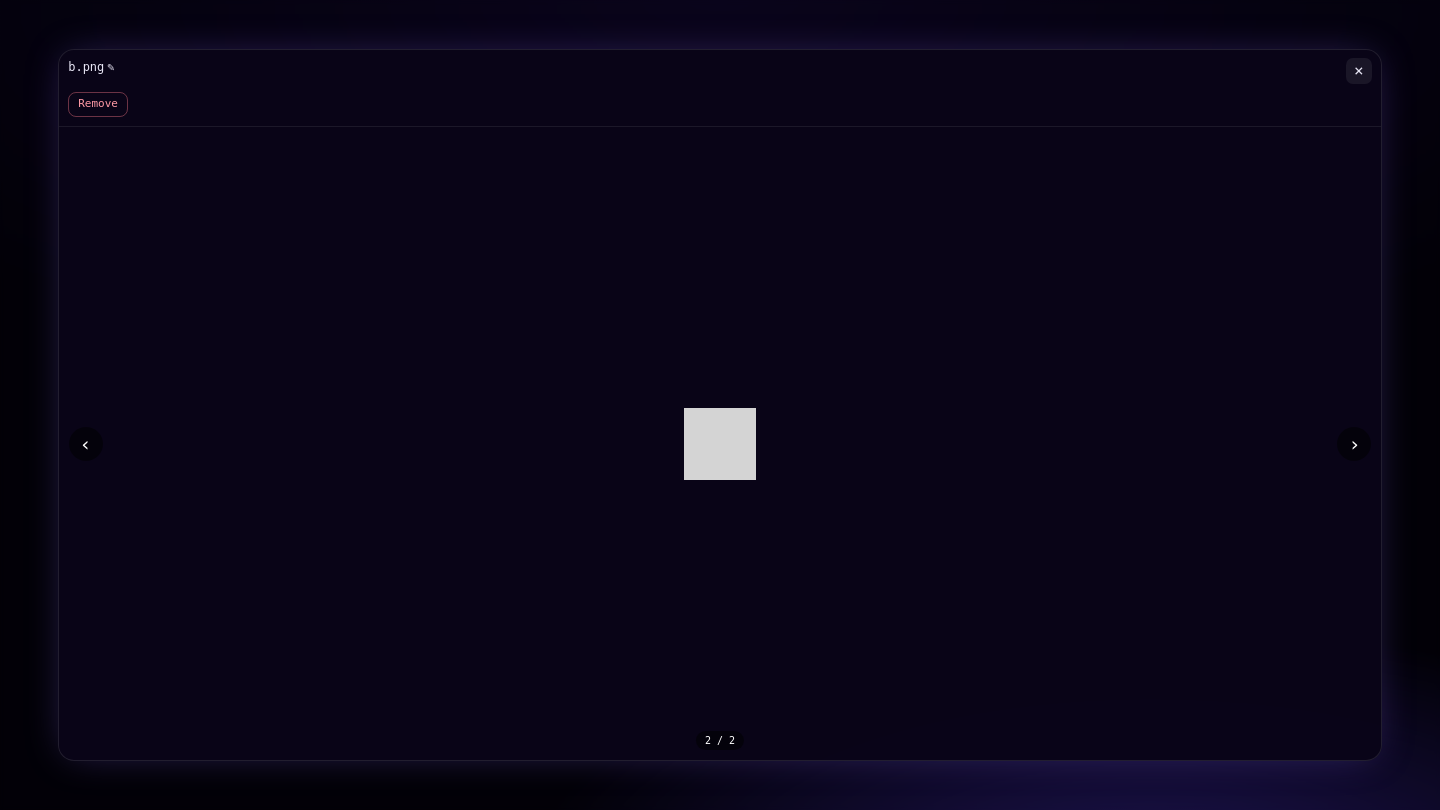
Scenario: Lightbox › loops navigation with the next chevron
The image size is (1440, 810).
Step 1. Click the button named "Next" → (1354, 444), box [1337,426,1371,460]
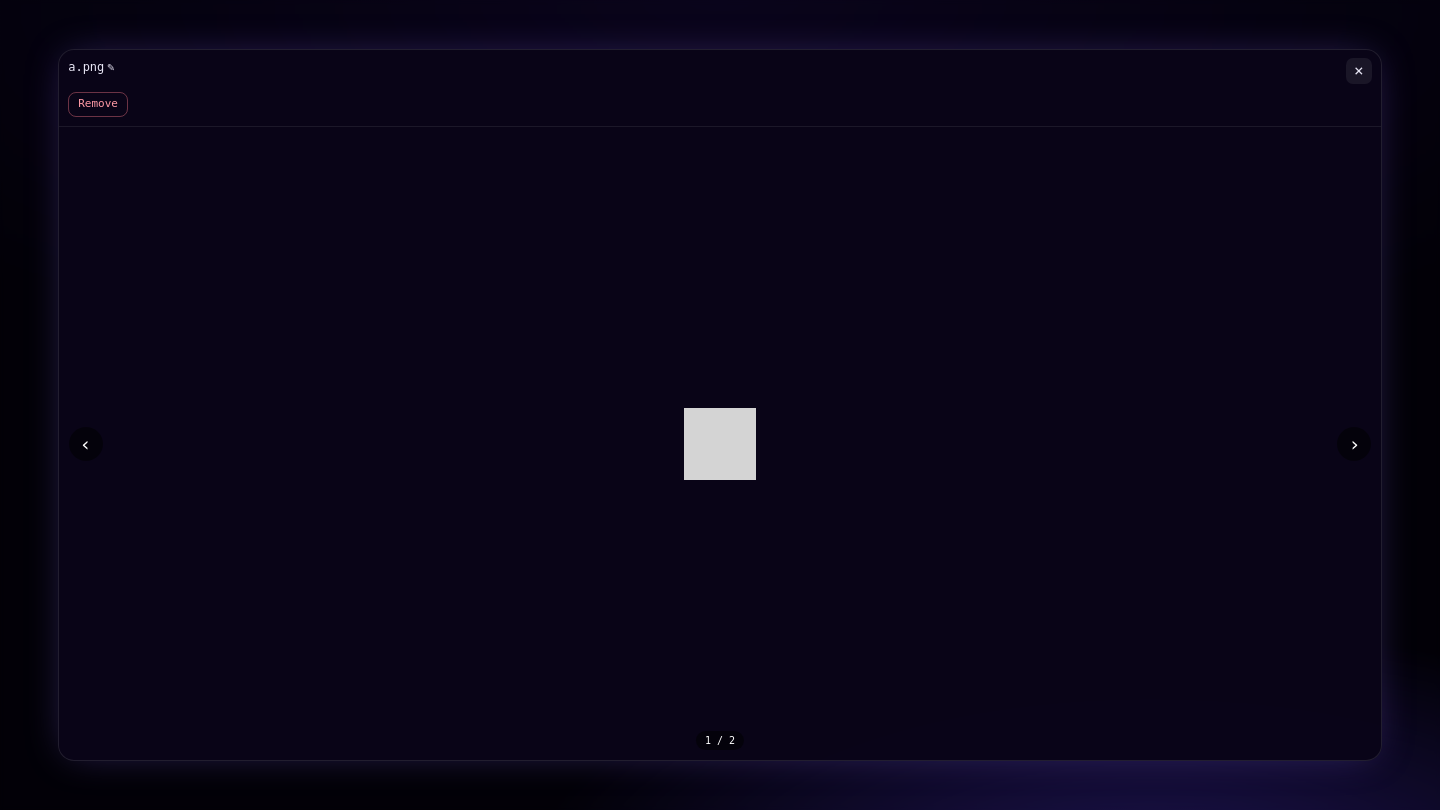
Check: the text "a.png" is shown, box [68,58,104,76]
